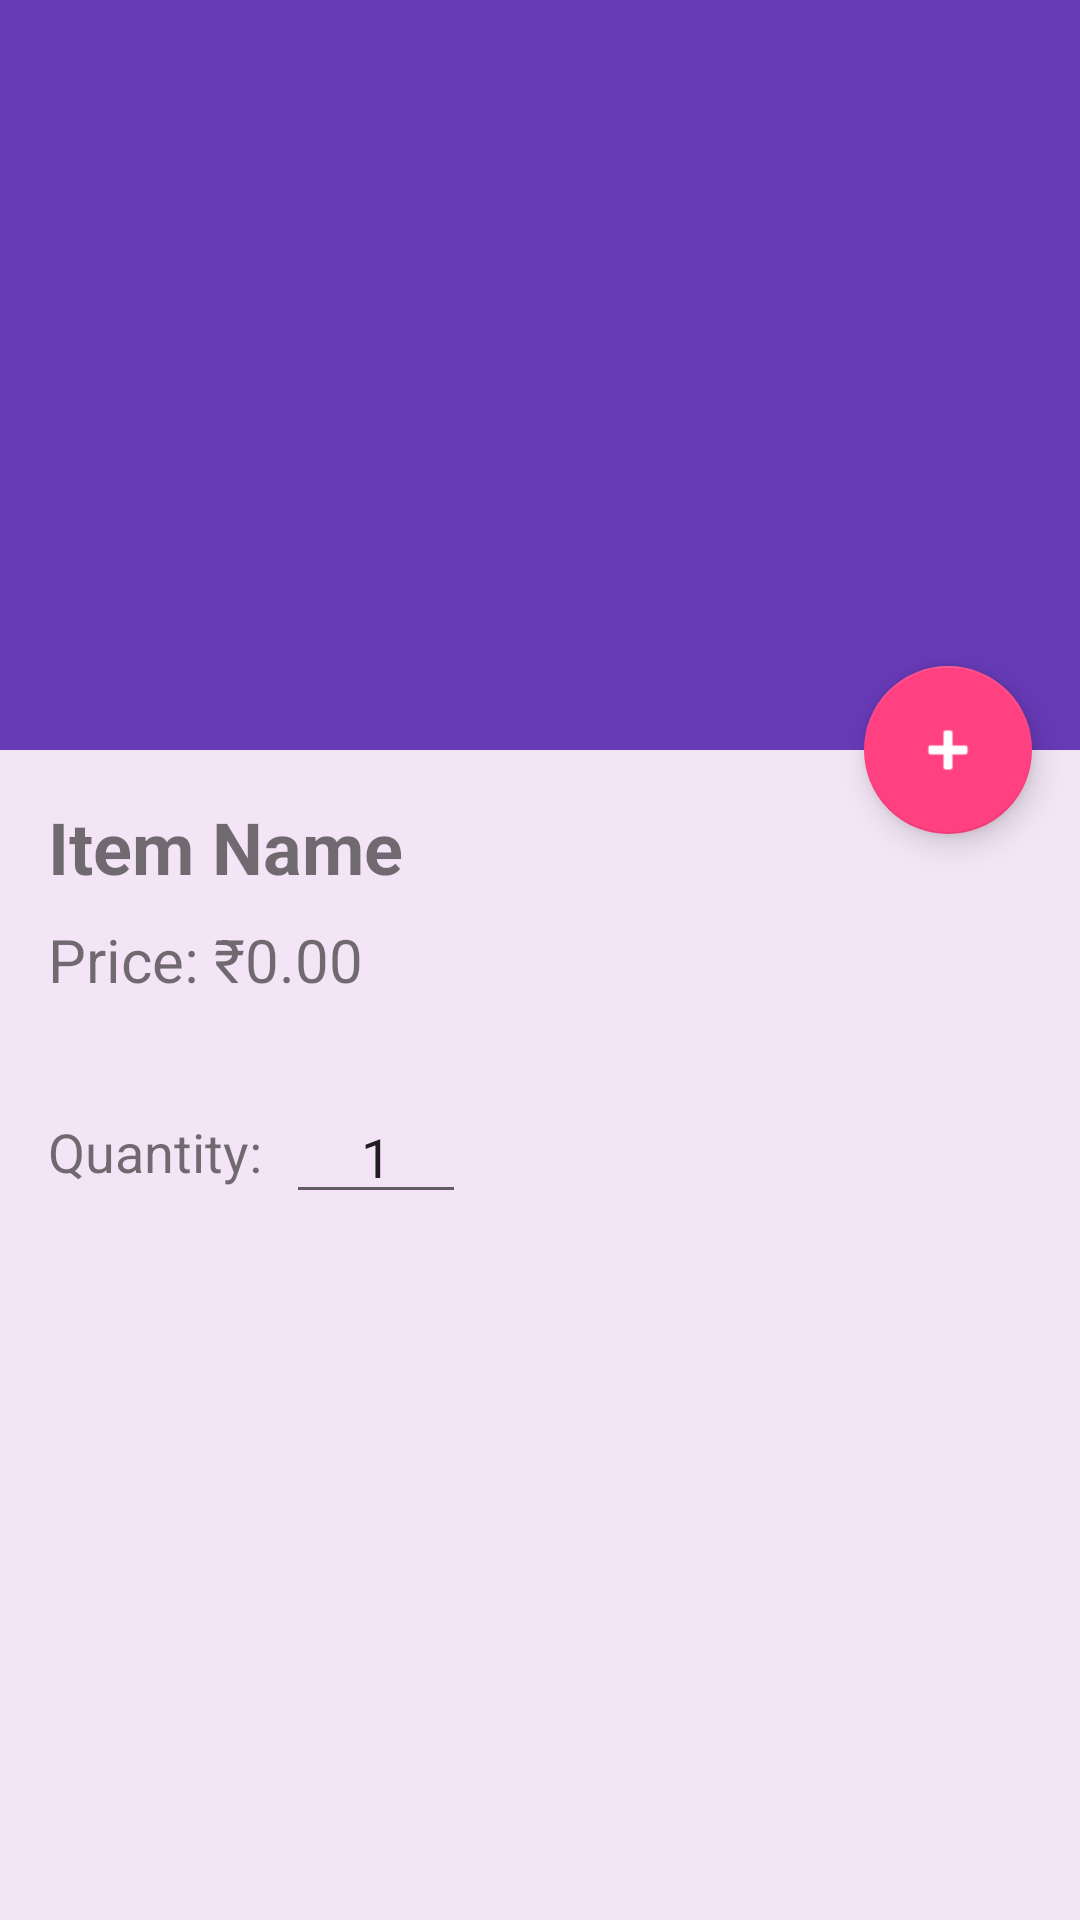

Icon click points for this 1080×1920 phone screenshot, format (x=x, y=y):
add: (x=948, y=750)
